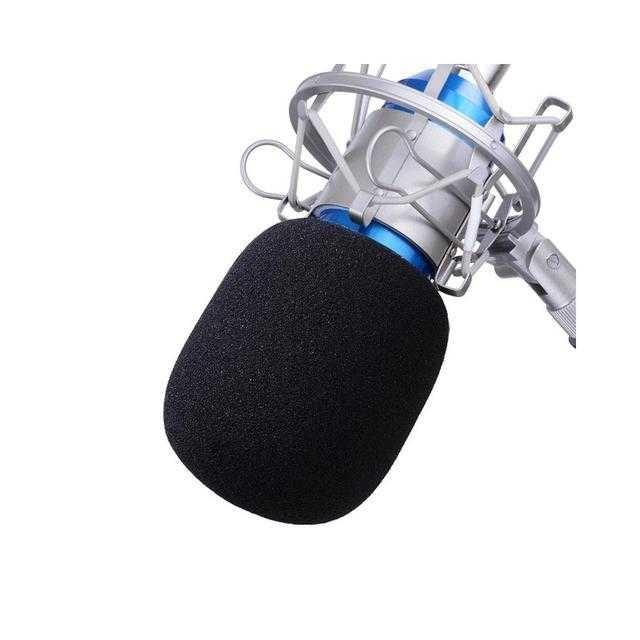microphone: (171, 62, 575, 518)
